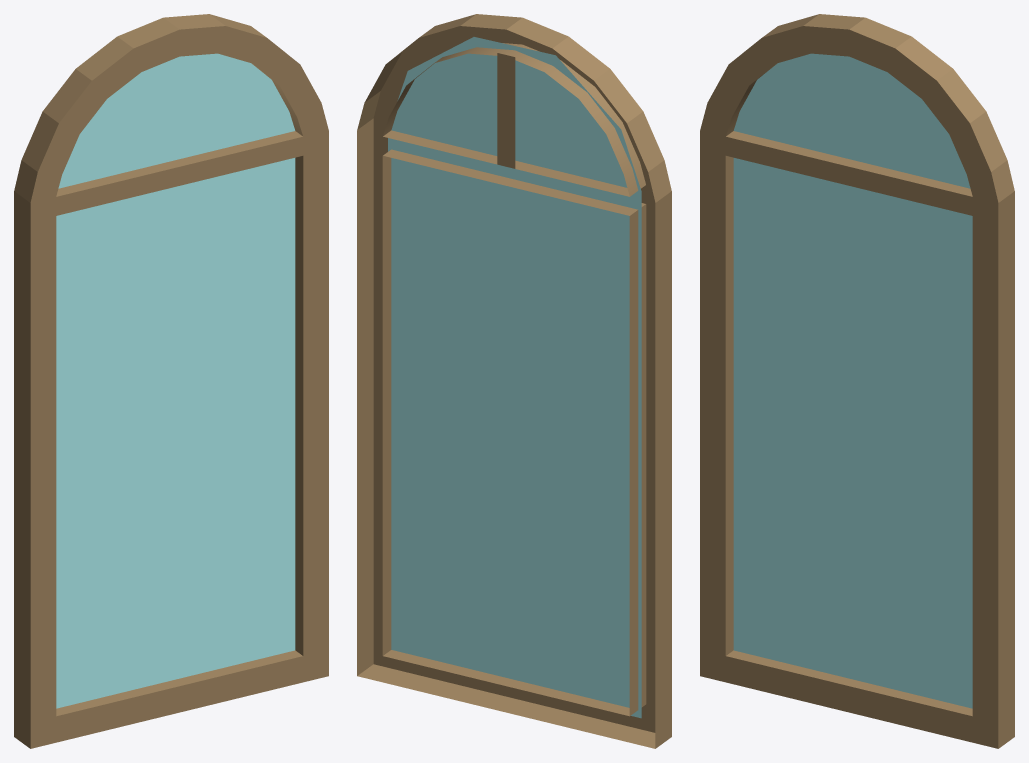
Rendered from WINDOW_TALL_ARCHED_B.fbx.
3 views of the same model, side by side, from view 1: azimuth 30°, elevation 25°; view 2: azimuth 150°, elevation 25°; view 3: azimuth 330°, elevation 25° (orthographic).
Visible parts, largest first — view 1: WINDOW_TALL_ARCHED_B; view 2: WINDOW_TALL_ARCHED_B; view 3: WINDOW_TALL_ARCHED_B.
Boxes of the visible parts, <box> form: WINDOW_TALL_ARCHED_B: <box>14,14,328,748</box>; WINDOW_TALL_ARCHED_B: <box>357,14,671,748</box>; WINDOW_TALL_ARCHED_B: <box>700,14,1014,748</box>.
Size of the model in its own units: 127 by 277 by 12.04.
